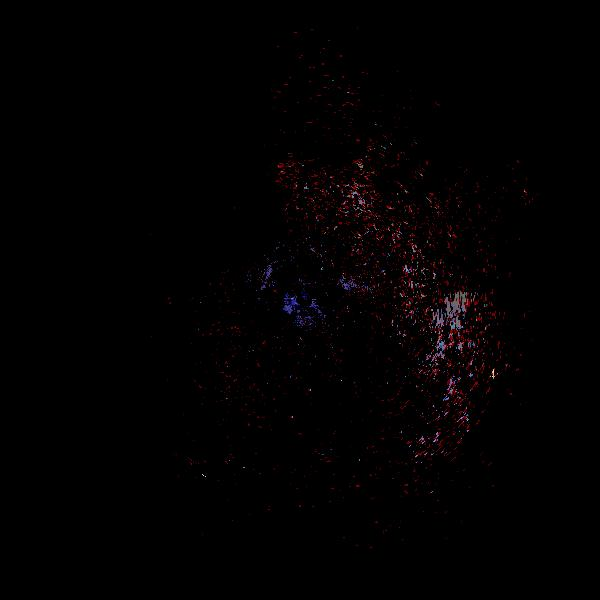roost: (291, 417, 294, 420)
